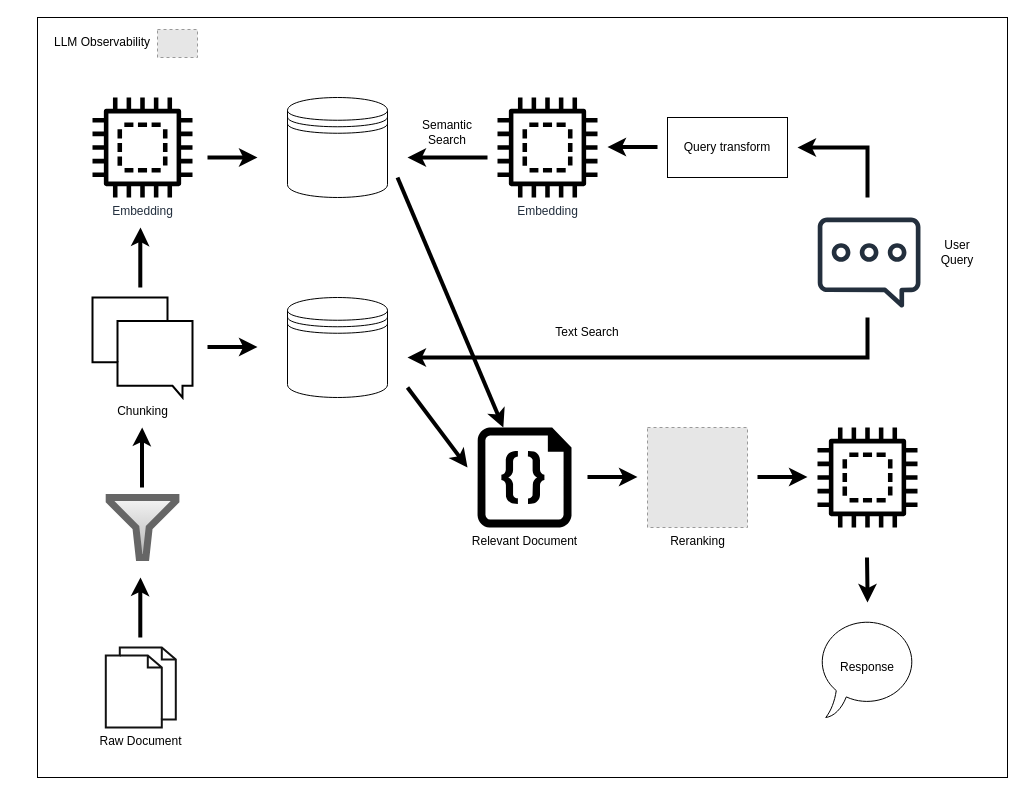
This 1025x795 diagram has some shape labels left out. Grey dashed boxes stand in for pictures. Here are the shapes that lost their labels. From the top down, the centre of each, then its label:
At [337,147]: "Vector Database".
At [337,347]: "Document Database".
At [867,477]: "LLM".
At [142,527]: "Document Ingestor".
